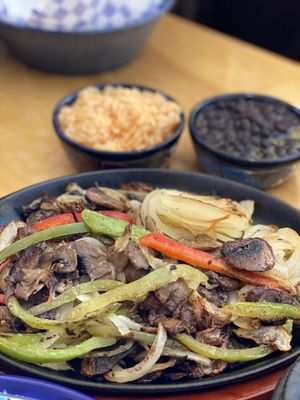sushi: (0, 0, 178, 75), (52, 82, 185, 169), (188, 92, 300, 191)
